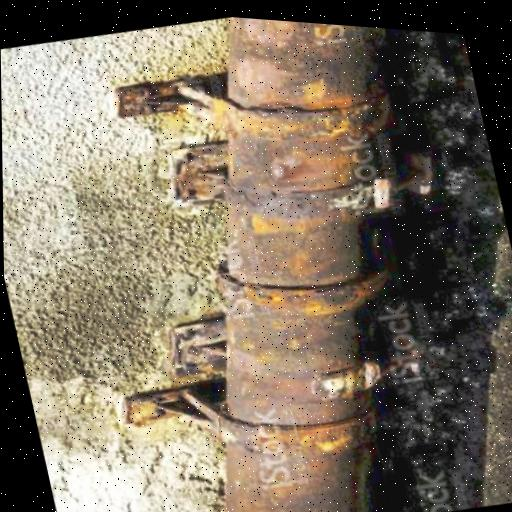corrosion: (221, 17, 360, 512), (113, 75, 213, 136), (116, 381, 219, 432)
